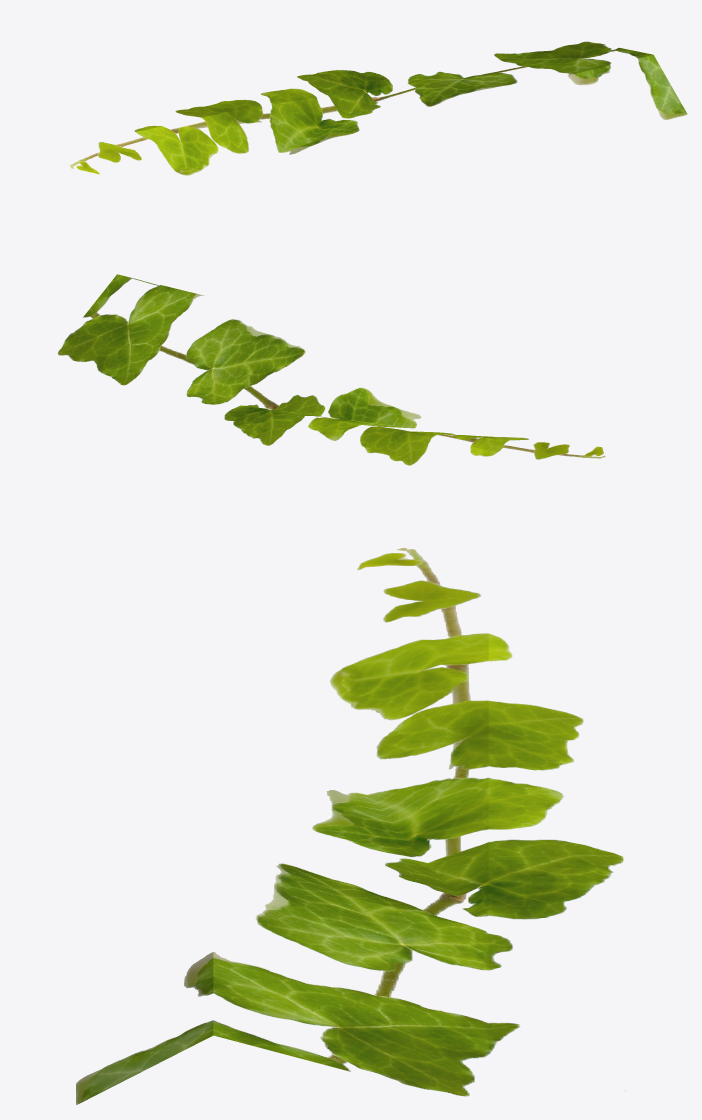
File: small_Plant_wall.fbx
The picture shows the model from 3 angles, top to bottom: view 1: azimuth 30°, elevation 25°; view 2: azimuth 150°, elevation 25°; view 3: azimuth 270°, elevation 25°; orthographic projection. The views are drawn at different scales.
Parts seen in each view (by area): view 1: Plane.002; view 2: Plane.002; view 3: Plane.002.
Boxes of the visible parts, <box> form: Plane.002: <box>69,41,687,175</box>; Plane.002: <box>29,274,605,465</box>; Plane.002: <box>76,547,625,1104</box>.
Bounding box in the file's own units: 3.26 × 0.2617 × 1.45.
